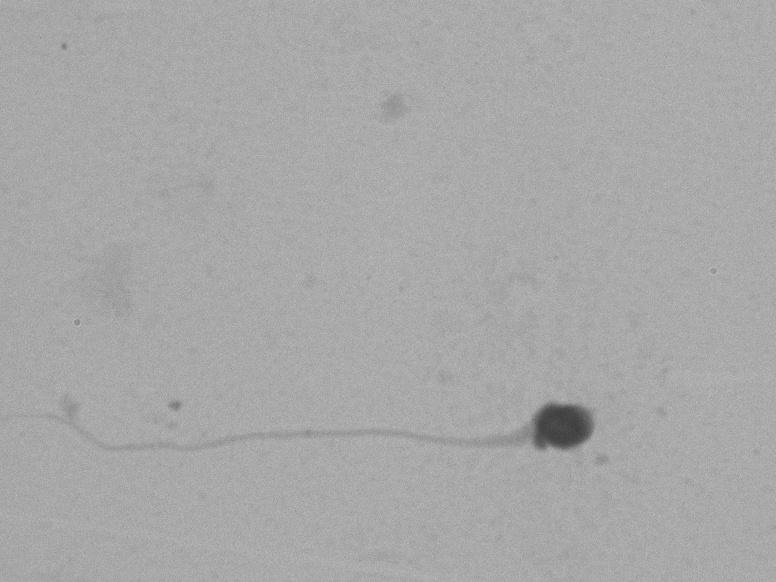Abnormal: (25, 346, 639, 520)
